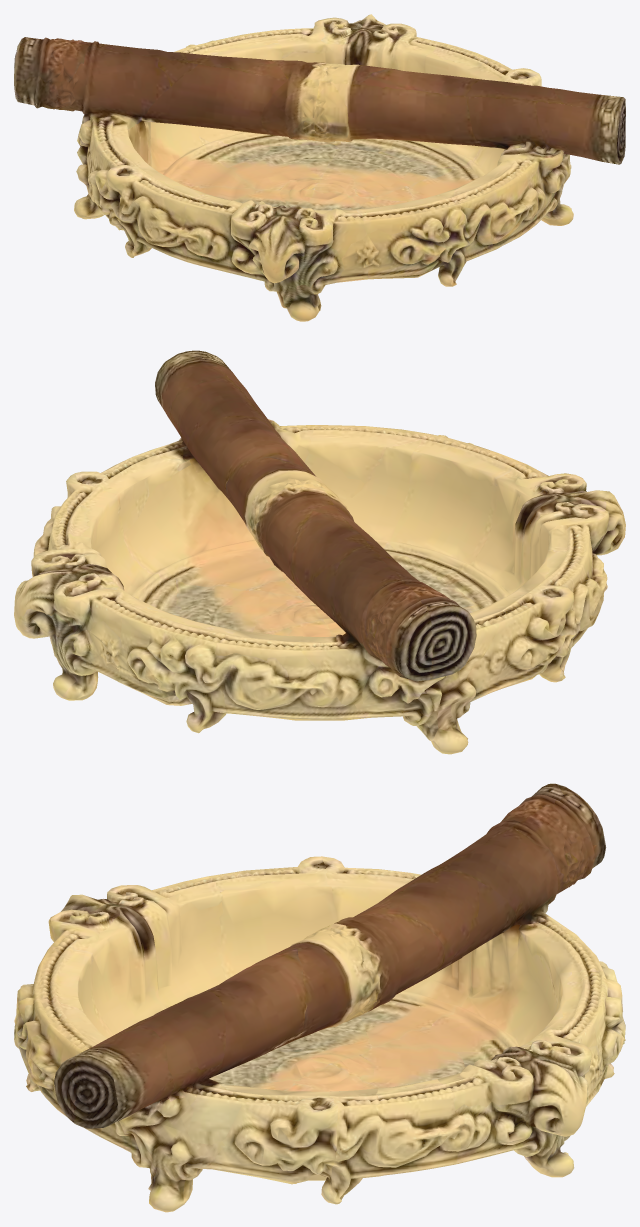
File: cigar.glb
3 views of the same model, one above another, from view 1: azimuth 30°, elevation 25°; view 2: azimuth 150°, elevation 25°; view 3: azimuth 270°, elevation 25° (orthographic). The views are drawn at different scales.
Size of the model in its own units: 1.9 by 0.6753 by 1.84.
Materials: 1 (1 with a texture image).
